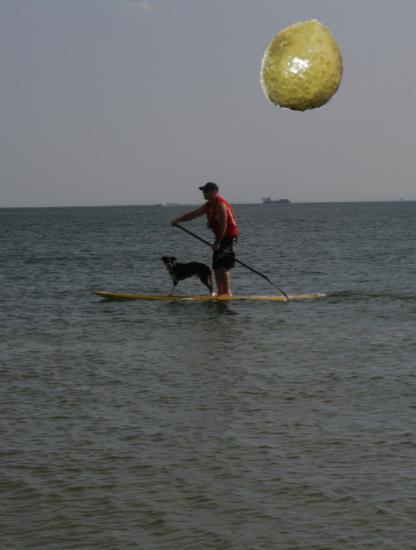Guava: (256, 18, 350, 112)
